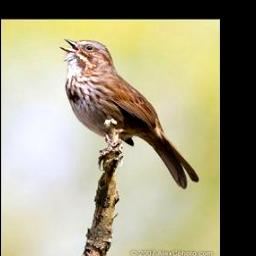Sparrow: (57, 34, 200, 190)
